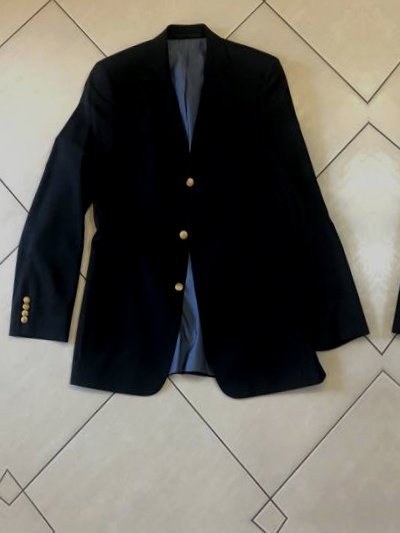Blazer: (0, 0, 380, 423), (368, 0, 400, 403)
